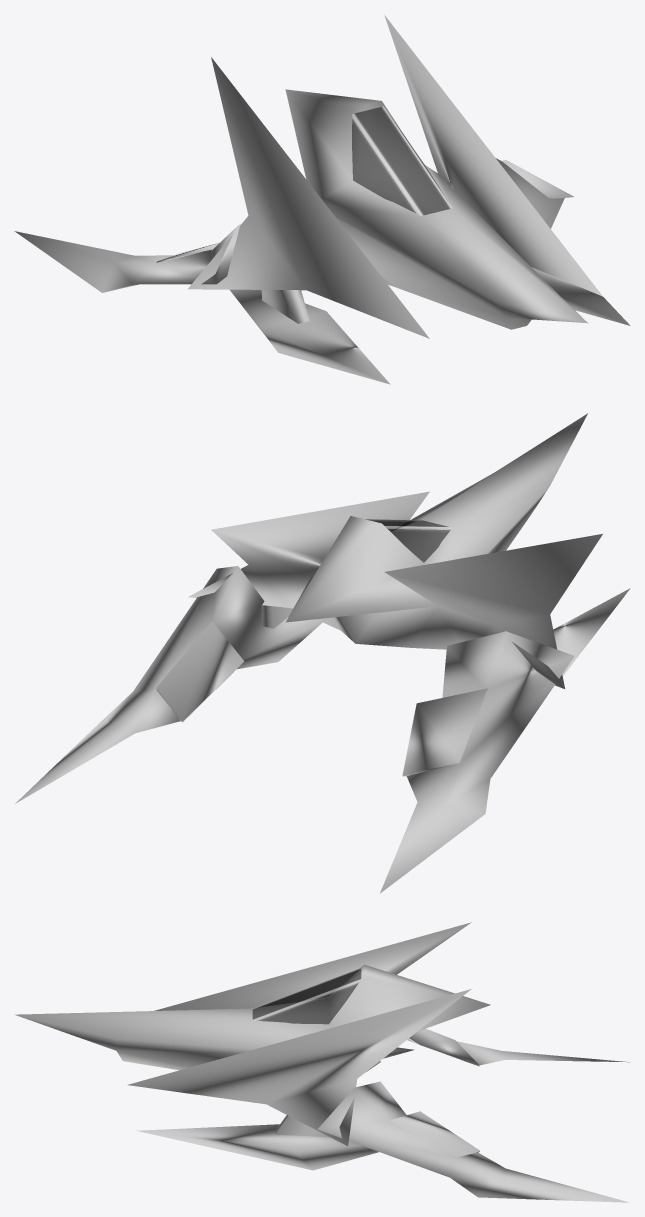
The model's file is arwingNew15.obj.
The picture shows the model from 3 angles, top to bottom: view 1: azimuth 30°, elevation 25°; view 2: azimuth 150°, elevation 25°; view 3: azimuth 270°, elevation 25°; orthographic projection. The views are drawn at different scales.
Visible parts, largest first — view 1: Arwing.002; view 2: Arwing.002; view 3: Arwing.002.
Boxes of the visible parts, left/top/right/bottom form: Arwing.002: left=14, top=15, right=630, bottom=384; Arwing.002: left=15, top=413, right=630, bottom=893; Arwing.002: left=15, top=922, right=629, bottom=1202.
Bounding box in the file's own units: 3.83 × 2.15 × 6.78.
